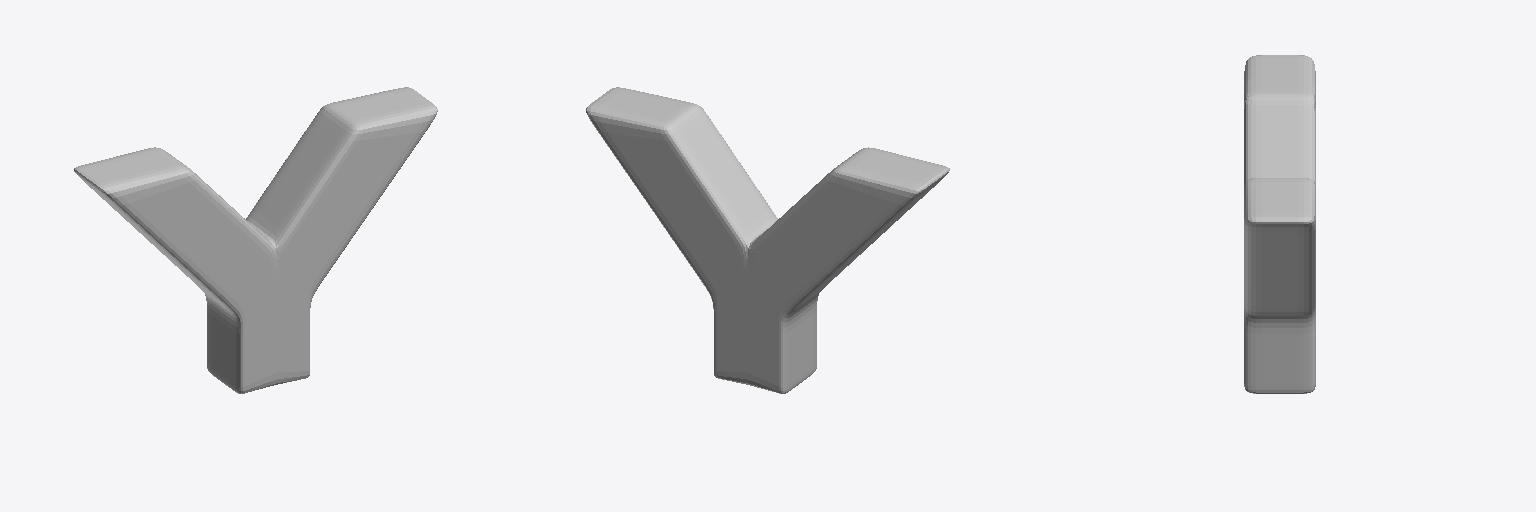
3 views of the same model, side by side, from view 1: azimuth 30°, elevation 25°; view 2: azimuth 150°, elevation 25°; view 3: azimuth 270°, elevation 25° (orthographic).
Parts seen in each view (by area): view 1: polySurface5 text2FixedOneObjectNewNoHistory:pasted__T1; view 2: polySurface5 text2FixedOneObjectNewNoHistory:pasted__T1; view 3: polySurface5 text2FixedOneObjectNewNoHistory:pasted__T1.
Part boxes in pixels (left/top/right/bottom): polySurface5 text2FixedOneObjectNewNoHistory:pasted__T1: left=74, top=87, right=437, bottom=393; polySurface5 text2FixedOneObjectNewNoHistory:pasted__T1: left=586, top=87, right=949, bottom=393; polySurface5 text2FixedOneObjectNewNoHistory:pasted__T1: left=1244, top=55, right=1315, bottom=393.
Bounding box in the file's own units: 923 × 629 × 170.